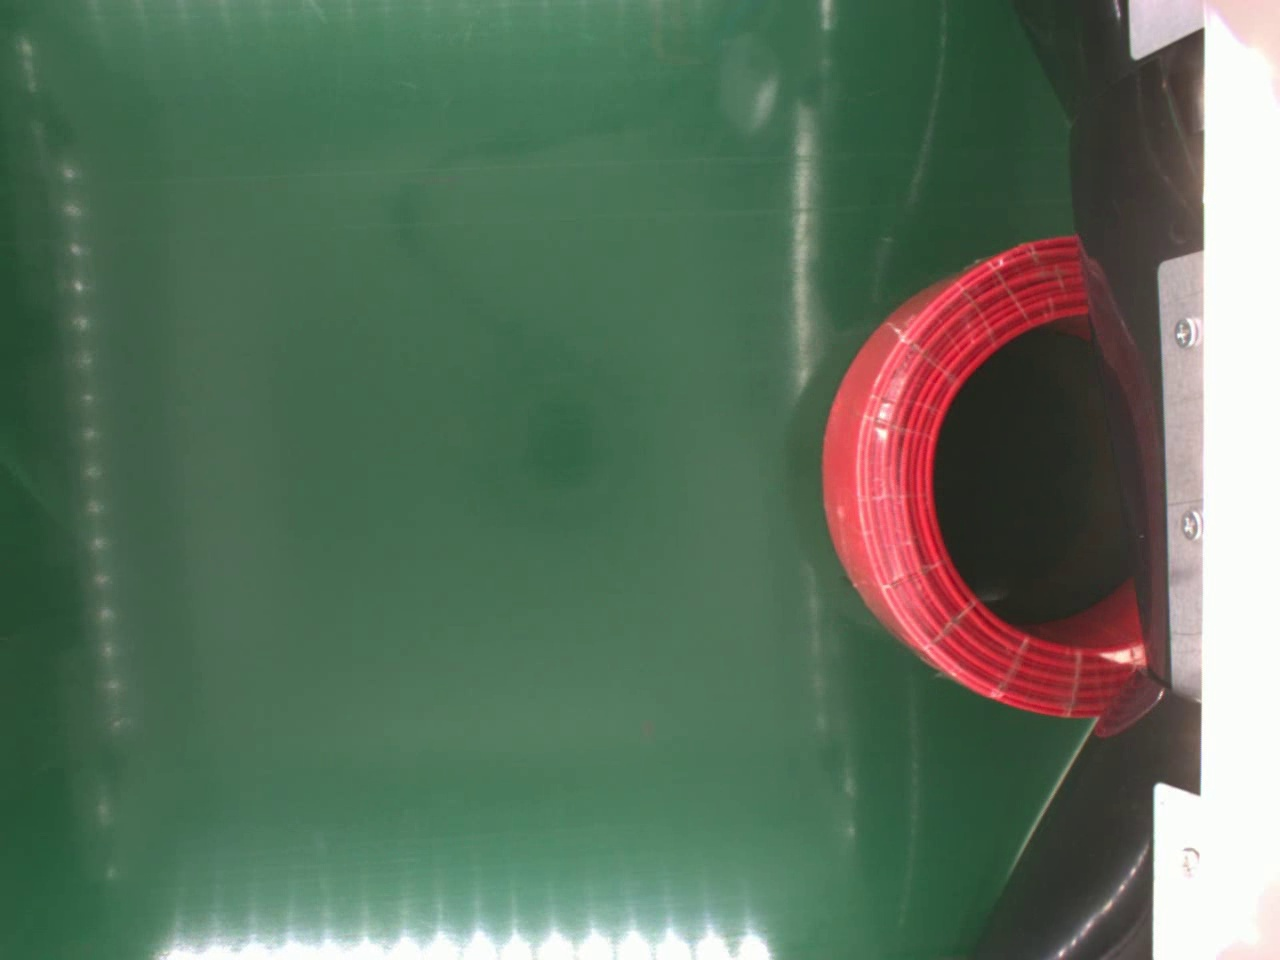red: (816, 236, 1144, 717)
